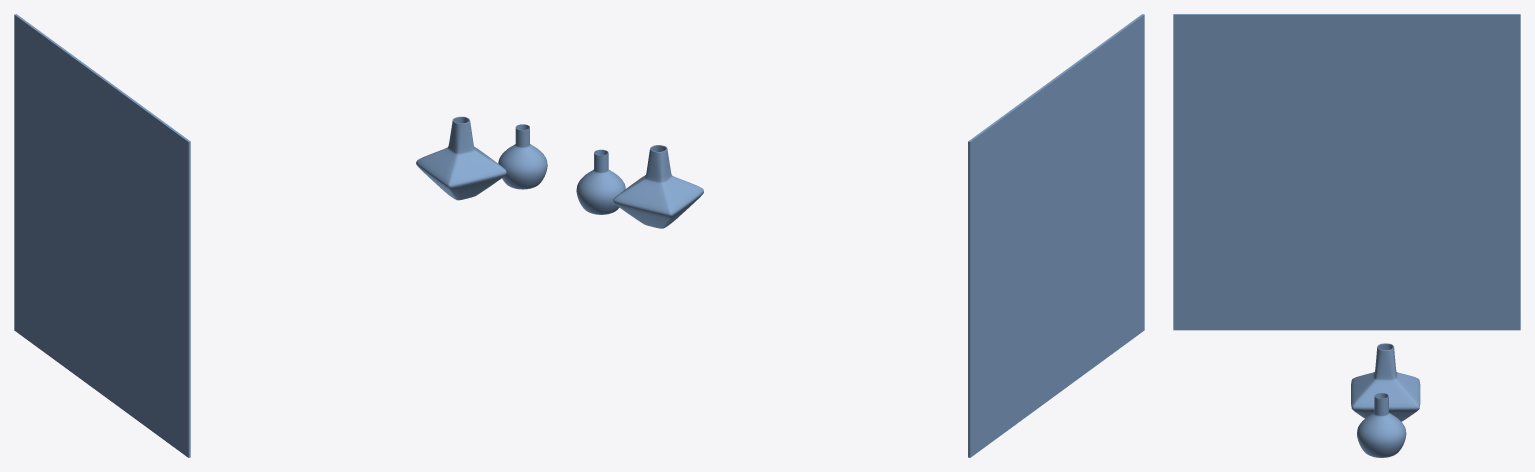
The model's file is finestres.obj.
The picture shows the model from 3 angles, left to right: view 1: azimuth 30°, elevation 25°; view 2: azimuth 150°, elevation 25°; view 3: azimuth 270°, elevation 25°; orthographic projection.
Visible parts, largest first — view 1: sorcerer_desk.004; view 2: sorcerer_desk.004; view 3: sorcerer_desk.004.
Part boxes in pixels (x1,y1,x2,y2): sorcerer_desk.004: [14, 14, 547, 457]; sorcerer_desk.004: [576, 14, 1144, 457]; sorcerer_desk.004: [1173, 14, 1520, 457].
Bounding box in the file's own units: 9.22 × 6.04 × 6.04.
